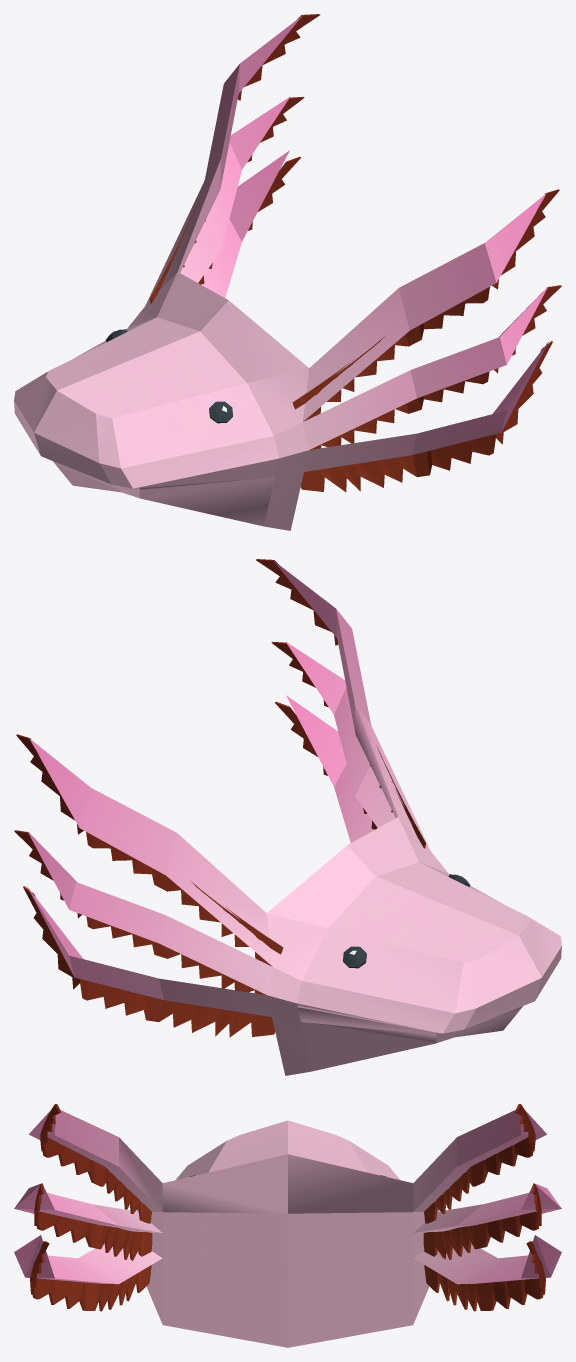
File: Axolotl_Head.fbx
3 views of the same model, one above another, from view 1: azimuth 30°, elevation 25°; view 2: azimuth 150°, elevation 25°; view 3: azimuth 270°, elevation 25° (orthographic). The views are drawn at different scales.
Parts seen in each view (by area): view 1: Axolotl_Head; view 2: Axolotl_Head; view 3: Axolotl_Head.
Part boxes in pixels (box(x1,y1,x2,y2)): Axolotl_Head: box(14, 14, 561, 530); Axolotl_Head: box(14, 559, 561, 1075); Axolotl_Head: box(14, 1104, 561, 1347).
Size of the model in its own units: 48.51 by 40.28 by 59.66.
